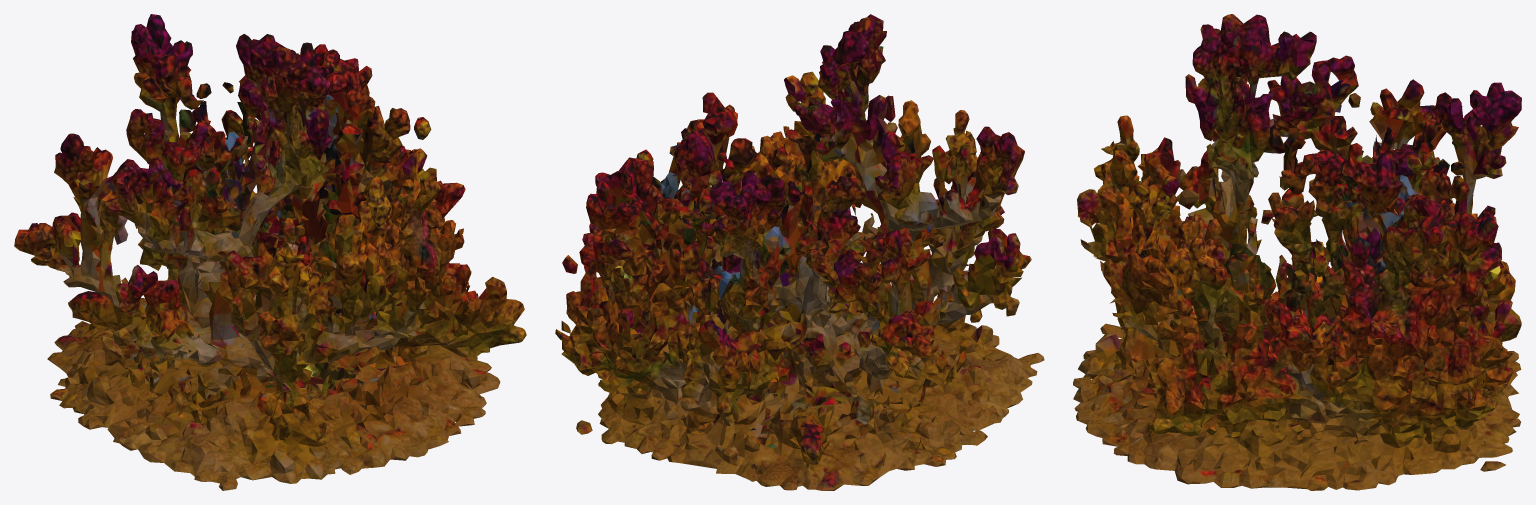
The model's file is desert-cactus-bush-7.glb.
3 views of the same model, side by side, from view 1: azimuth 30°, elevation 25°; view 2: azimuth 150°, elevation 25°; view 3: azimuth 270°, elevation 25° (orthographic). The views are drawn at different scales.
Visible parts, largest first — view 1: textured_mesh.obj; view 2: textured_mesh.obj; view 3: textured_mesh.obj.
Boxes of the visible parts, bbox=[...] form: textured_mesh.obj: bbox=[14, 14, 526, 490]; textured_mesh.obj: bbox=[555, 14, 1044, 490]; textured_mesh.obj: bbox=[1073, 14, 1521, 490].
Size of the model in its own units: 1.96 by 1.82 by 1.98.
1 material, 1 textured.
